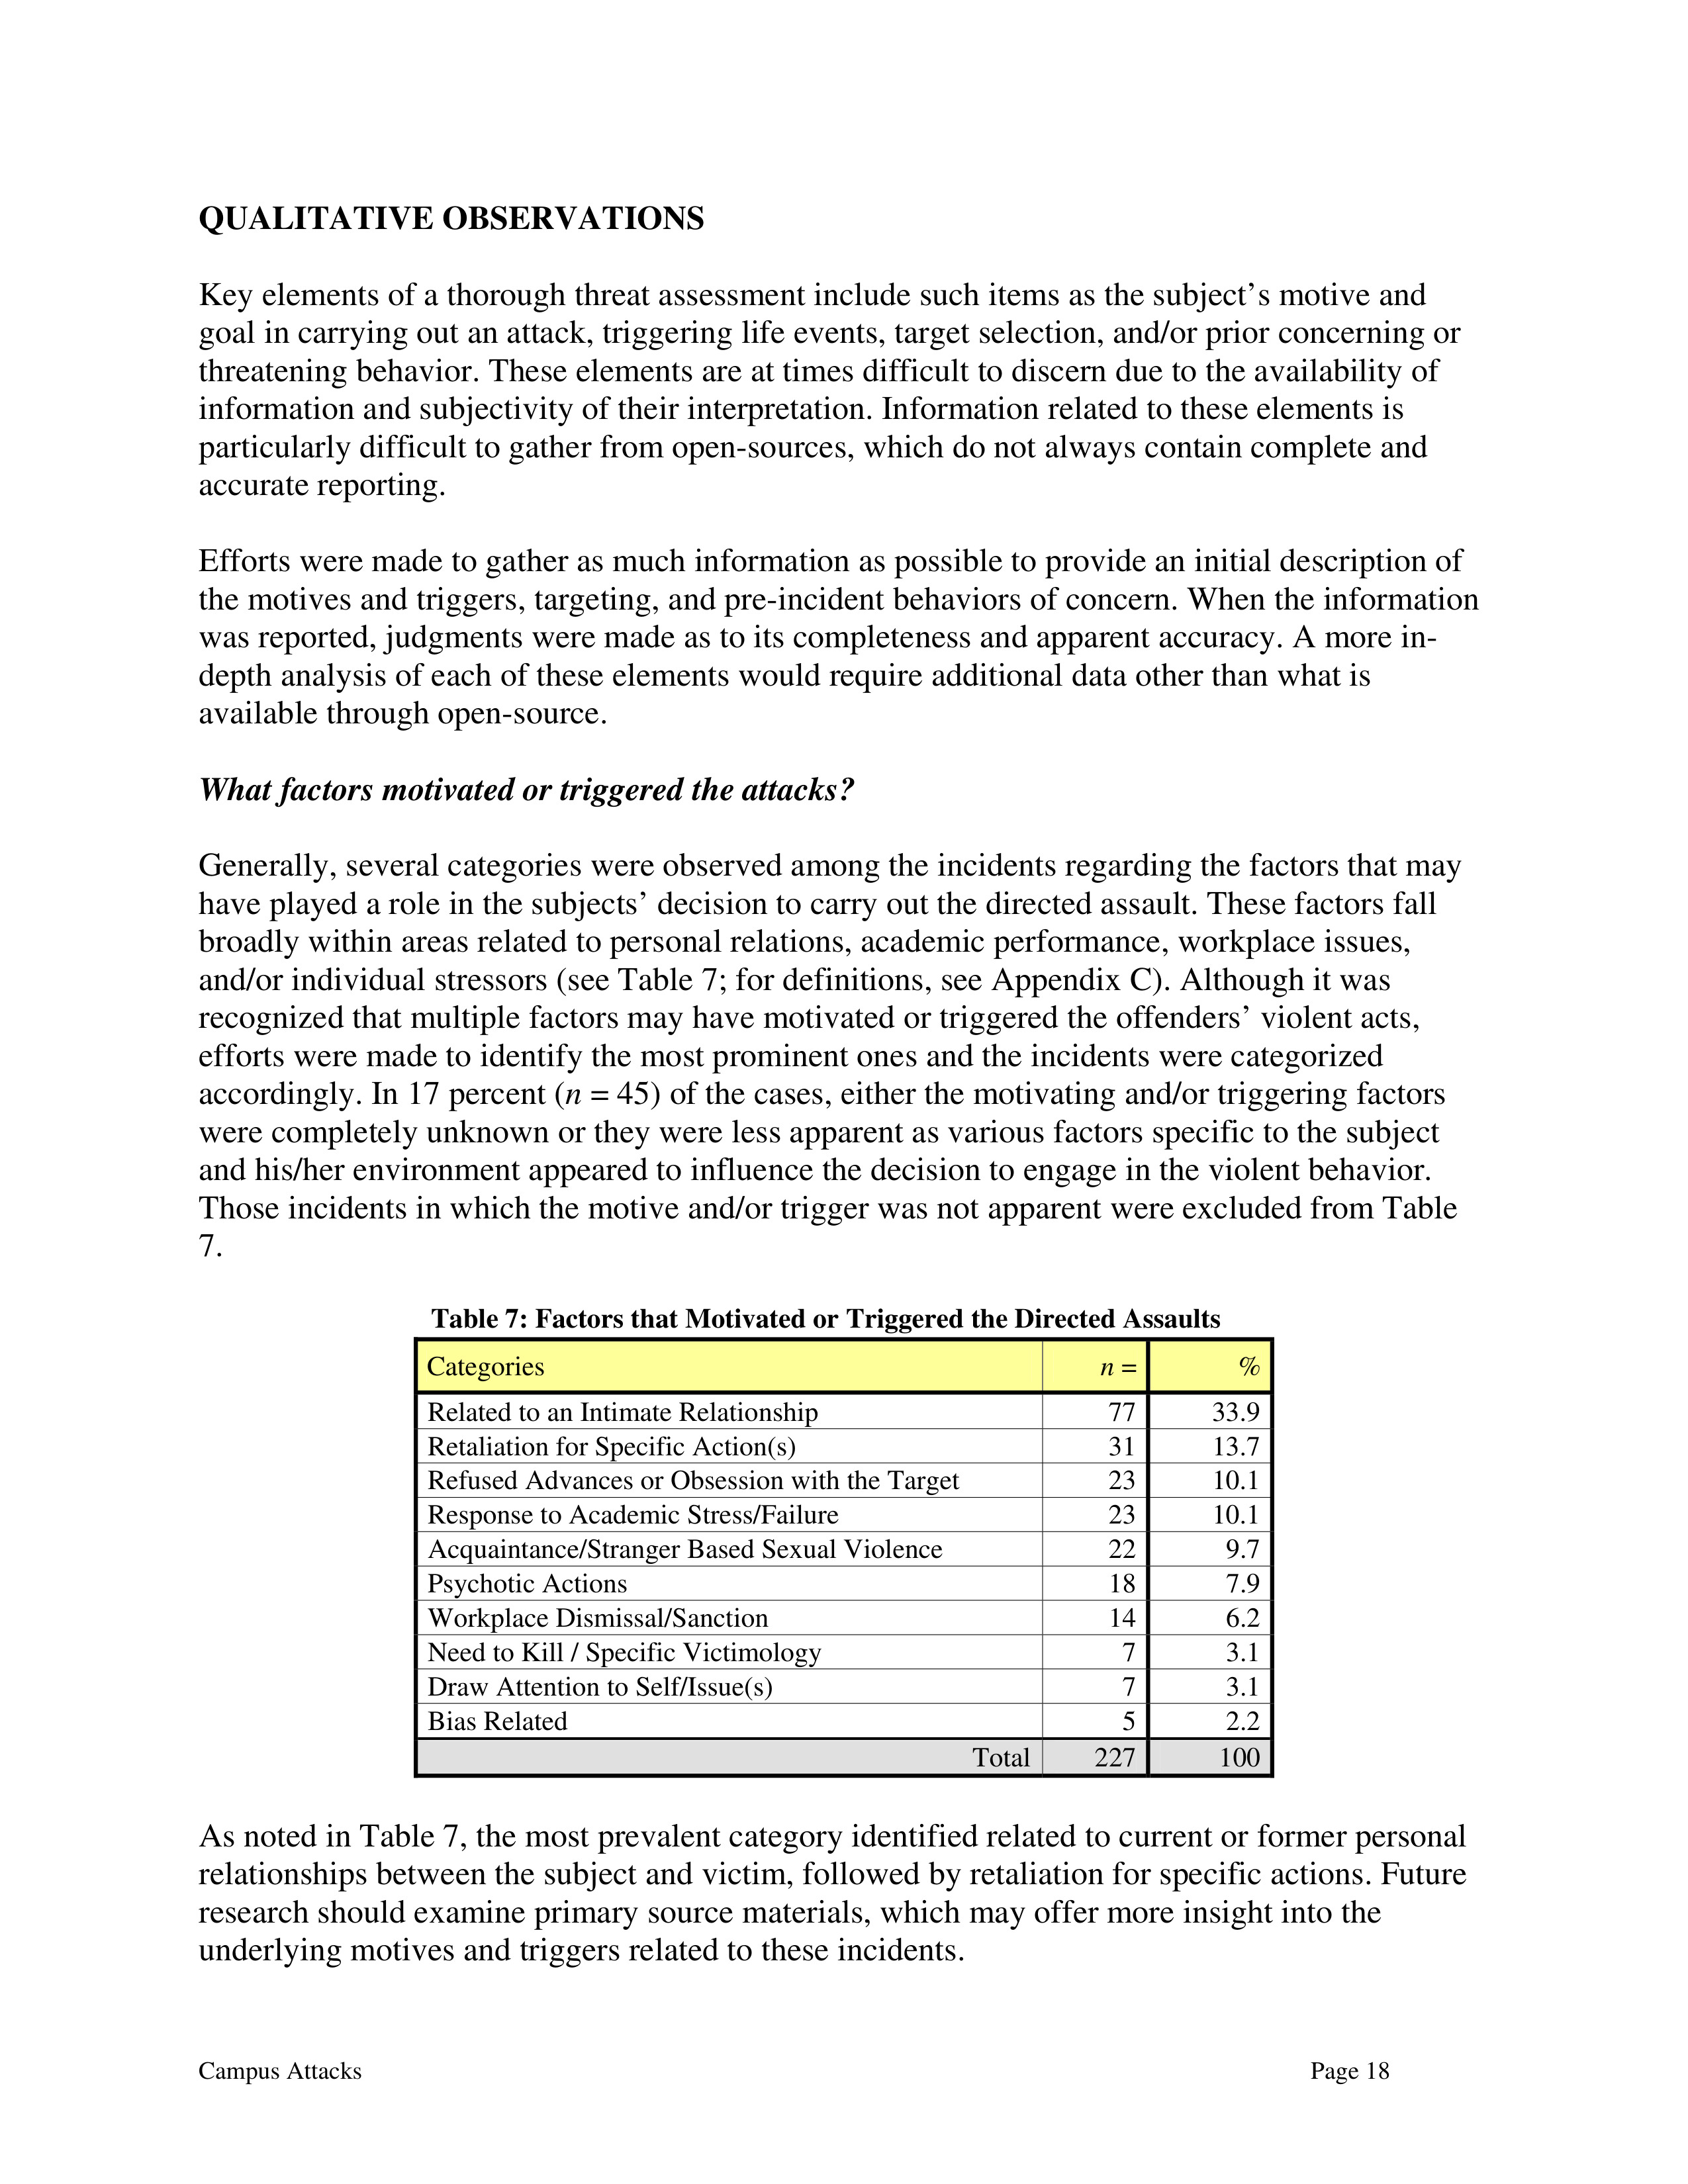table: (426, 1345, 1261, 1775)
